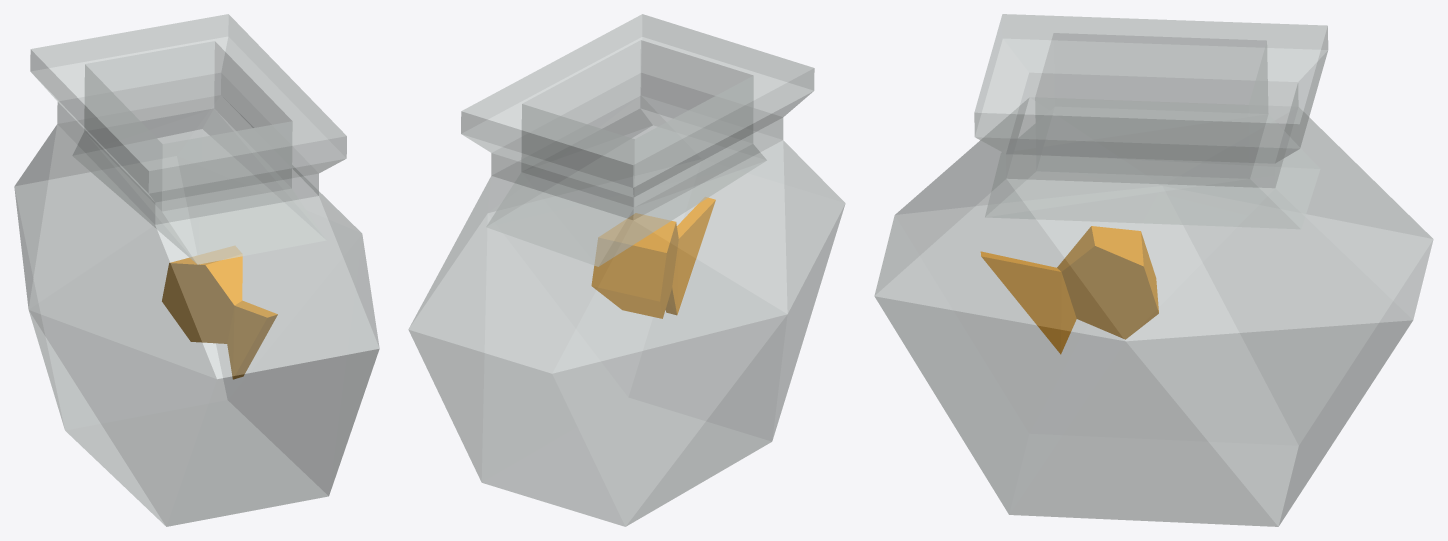
Rendered from Fish Bowl.glb.
3 views of the same model, side by side, from view 1: azimuth 30°, elevation 25°; view 2: azimuth 150°, elevation 25°; view 3: azimuth 270°, elevation 25° (orthographic). The views are drawn at different scales.
Visible parts, largest first — view 1: group770181043, group1958900306; view 2: group770181043, group1958900306; view 3: group770181043, group1958900306.
Part boxes in pixels (left/top/right/bottom): group770181043: left=14, top=14, right=379, bottom=526; group1958900306: left=162, top=246, right=277, bottom=379; group770181043: left=408, top=14, right=845, bottom=526; group1958900306: left=591, top=197, right=715, bottom=318; group770181043: left=874, top=14, right=1433, bottom=526; group1958900306: left=980, top=226, right=1158, bottom=354.
Bounding box in the file's own units: 0.1466 × 0.1666 × 0.2064.
